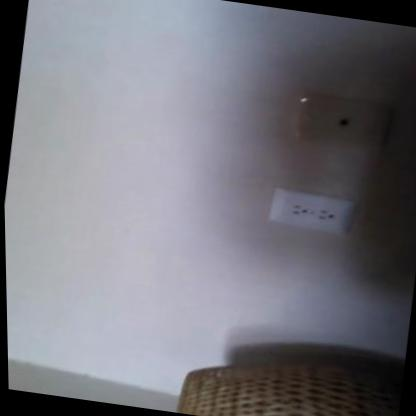OUTLET: (267, 187, 351, 233)
